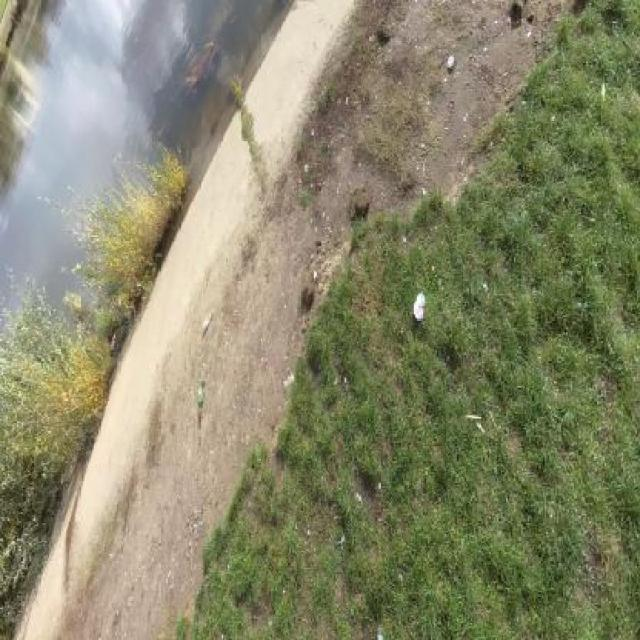Garbage: (412, 290, 426, 318), (202, 305, 215, 335), (198, 377, 205, 419), (378, 620, 389, 638), (110, 328, 117, 352), (447, 56, 453, 68)
